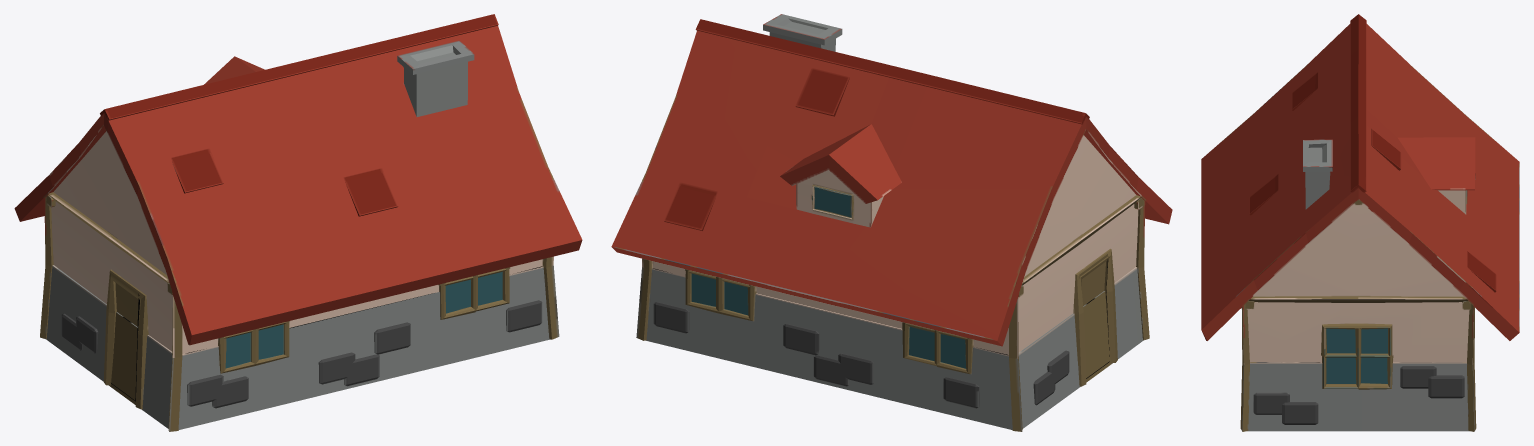
Rendered from House_1.fbx.
3 views of the same model, side by side, from view 1: azimuth 30°, elevation 25°; view 2: azimuth 150°, elevation 25°; view 3: azimuth 270°, elevation 25° (orthographic). The views are drawn at different scales.
Visible parts, largest first — view 1: EvRotten.001; view 2: EvRotten.001; view 3: EvRotten.001.
Part boxes in pixels (x1,y1,x2,y2): EvRotten.001: (14,14,582,431); EvRotten.001: (611,14,1172,431); EvRotten.001: (1201,14,1519,431).
Size of the model in its own units: 356 by 240 by 280.
1 material, 1 textured.
